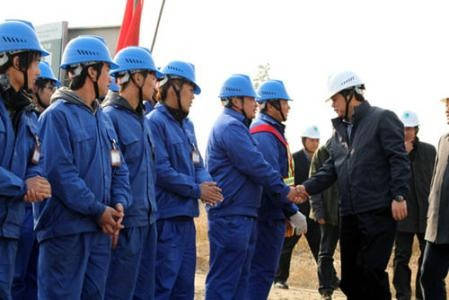blue: (59, 34, 112, 100), (108, 45, 158, 104), (1, 19, 40, 92), (156, 58, 198, 113), (217, 73, 259, 119), (251, 77, 291, 123), (28, 60, 56, 107)
white: (321, 69, 367, 119), (397, 109, 420, 145), (299, 123, 321, 151)
